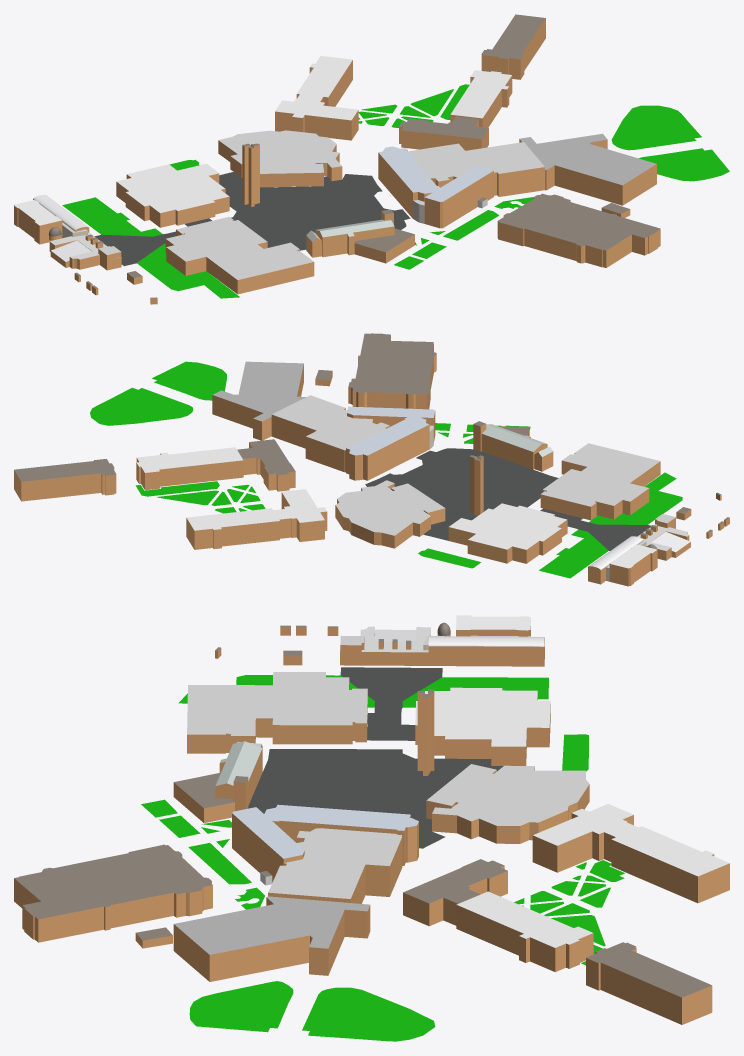
The picture shows the model from 3 angles, top to bottom: view 1: azimuth 30°, elevation 25°; view 2: azimuth 150°, elevation 25°; view 3: azimuth 270°, elevation 25°; orthographic projection. The views are drawn at different scales.
Parts seen in each view (by area): view 1: map.osm_buildings, map.osm_vegetation, map.osm_areas_pedestrian; view 2: map.osm_buildings, map.osm_vegetation, map.osm_areas_pedestrian; view 3: map.osm_buildings, map.osm_vegetation, map.osm_areas_pedestrian.
Part boxes in pixels (x1,y1,x2,y2): map.osm_buildings: (14,14,660,304); map.osm_vegetation: (62,84,729,298); map.osm_areas_pedestrian: (94,172,410,266); map.osm_buildings: (14,333,729,586); map.osm_vegetation: (90,361,682,578); map.osm_areas_pedestrian: (365,448,650,550); map.osm_buildings: (14,615,729,1024); map.osm_vegetation: (141,675,624,1041); map.osm_areas_pedestrian: (248,667,503,848).
Size of the model in its own units: 47249 by 4200 by 35086.
